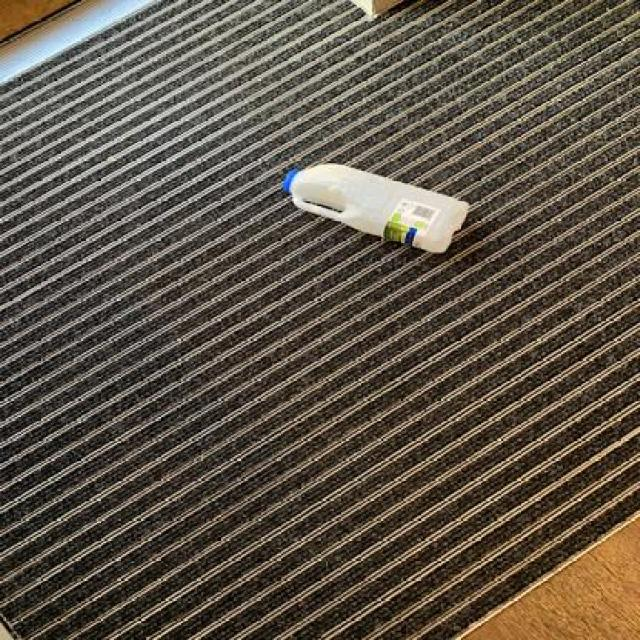trash: (278, 166, 473, 257)
